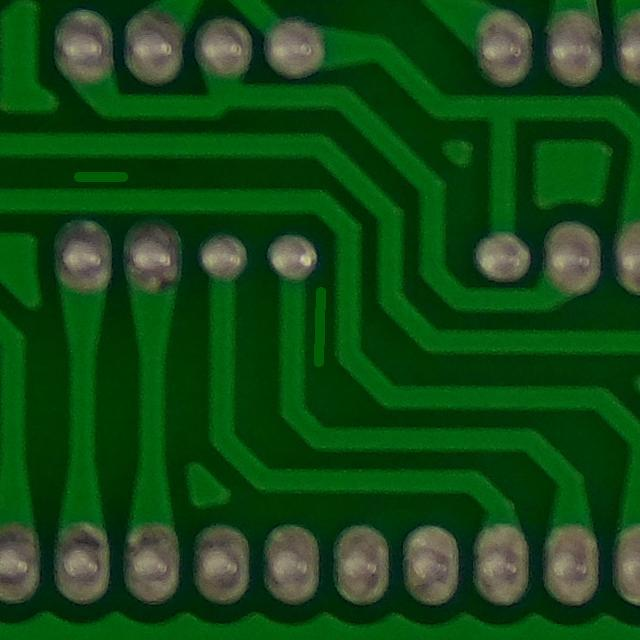spurious_copper: (291, 263, 350, 378)
